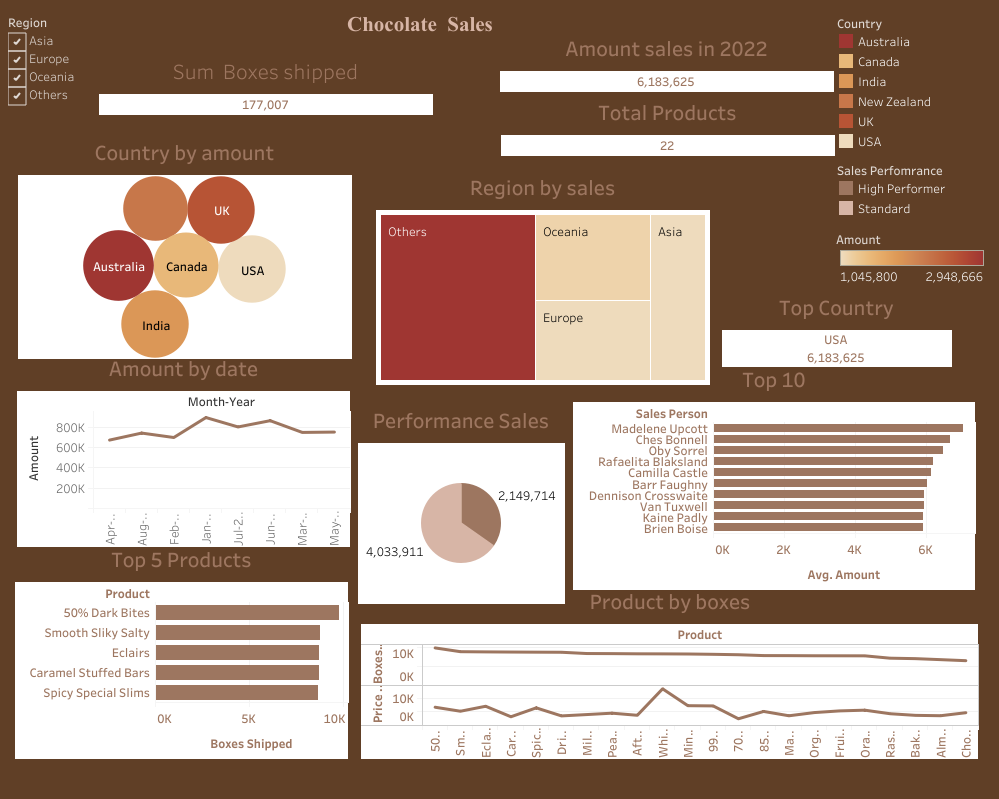

The dashboard page shown, as its layout file describes it:
{"tool":"tableau","page":{"name":"Dashboard 1","canvas":[1000,800],"ordinal":0},"visuals":[{"type":"text","box":[8,8,824,32]},{"type":"legend","title":"Country by amount","param":"[federated.1hdqxwi0q3jal615id6231k9mkb9].[none:Country:nk]","box":[832,8,160,147]},{"type":"filter","title":"Region by sales","param":"[federated.1hdqxwi0q3jal615id6231k9mkb9].[none:Region:nk]","box":[8,12,168,133]},{"type":"worksheet","title":"Amount of sales in 2022","mark":"Automatic","box":[500,28,333,71]},{"type":"worksheet","title":"Sum  Boxes shipped","mark":"Automatic","box":[99,51,333,68]},{"type":"worksheet","title":"Number of products","mark":"Automatic","box":[501,92,333,257]},{"type":"worksheet","title":"Country by amount","mark":"Circle","box":[18,132,333,226]},{"type":"legend","title":"Performance Sales","param":"[federated.1hdqxwi0q3jal615id6231k9mkb9].[none:Sales Perfomrance:nk]","box":[832,155,160,67]},{"type":"worksheet","title":"Region by sales","mark":"Automatic","box":[376,167,333,218]},{"type":"legend","title":"Region by sales","param":"[federated.1hdqxwi0q3jal615id6231k9mkb9].[sum:Amount:qk]","box":[832,222,160,68]},{"type":"worksheet","title":"Top Country","mark":"Automatic","box":[722,287,229,191]},{"type":"legend","title":"Country by amount","param":"[federated.1hdqxwi0q3jal615id6231k9mkb9].[sum:Amount:qk]","box":[832,290,160,22]},{"type":"worksheet","title":"Amount by date","mark":"Line","rows":["Amount"],"cols":["Month-Year"],"box":[17,348,333,200]},{"type":"worksheet","title":"Top 10","mark":"Automatic","rows":["Sales Person"],"cols":["Amount"],"box":[573,359,402,231]},{"type":"worksheet","title":"Performance Sales","mark":"Pie","box":[358,400,206,224]},{"type":"worksheet","title":"Top 5 Products","mark":"Automatic","rows":["Product"],"cols":["Boxes Shipped"],"box":[15,539,333,223]},{"type":"worksheet","title":"Product by boxes","mark":"Line","rows":["Boxes Shipped","Price per box"],"cols":["Product"],"box":[361,581,618,180]}]}

Visuals, with their boxes in screenshot pixels (x1, y1, x2, y2), scaled from the page's 1000x800 canvas onto the 999x799 screenshot:
text: {"x1": 8, "y1": 8, "x2": 831, "y2": 40}
"Country by amount" legend: {"x1": 831, "y1": 8, "x2": 991, "y2": 155}
"Region by sales" filter: {"x1": 8, "y1": 12, "x2": 176, "y2": 145}
"Amount of sales in 2022" worksheet: {"x1": 500, "y1": 28, "x2": 832, "y2": 99}
"Sum  Boxes shipped" worksheet: {"x1": 99, "y1": 51, "x2": 432, "y2": 119}
"Number of products" worksheet: {"x1": 500, "y1": 92, "x2": 833, "y2": 349}
"Country by amount" worksheet (Circle marks): {"x1": 18, "y1": 132, "x2": 351, "y2": 358}
"Performance Sales" legend: {"x1": 831, "y1": 155, "x2": 991, "y2": 222}
"Region by sales" worksheet: {"x1": 376, "y1": 167, "x2": 708, "y2": 385}
"Region by sales" legend: {"x1": 831, "y1": 222, "x2": 991, "y2": 290}
"Top Country" worksheet: {"x1": 721, "y1": 287, "x2": 950, "y2": 477}
"Country by amount" legend: {"x1": 831, "y1": 290, "x2": 991, "y2": 312}
"Amount by date" worksheet (Line marks): {"x1": 17, "y1": 348, "x2": 350, "y2": 547}
"Top 10" worksheet: {"x1": 572, "y1": 359, "x2": 974, "y2": 589}
"Performance Sales" worksheet (Pie marks): {"x1": 358, "y1": 400, "x2": 563, "y2": 623}
"Top 5 Products" worksheet: {"x1": 15, "y1": 538, "x2": 348, "y2": 761}
"Product by boxes" worksheet (Line marks): {"x1": 361, "y1": 580, "x2": 978, "y2": 760}
